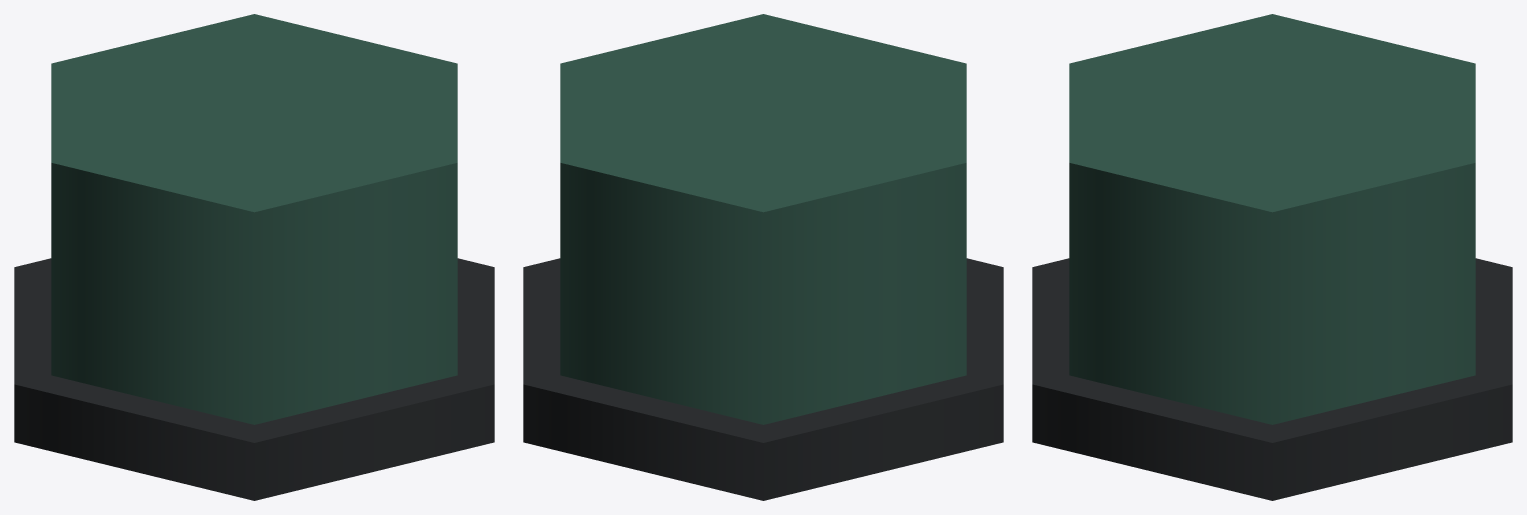
File: boss_hydra.obj
3 renders of one model, left to right at view 1: azimuth 30°, elevation 25°; view 2: azimuth 150°, elevation 25°; view 3: azimuth 270°, elevation 25°, orthographic.
Visible parts, largest first — view 1: body, neck; view 2: body, neck; view 3: body, neck.
Boxes of the visible parts, x1,y1,x2,y2 form: body: [51, 14, 457, 424]; neck: [14, 258, 494, 500]; body: [560, 14, 966, 424]; neck: [523, 258, 1003, 500]; body: [1069, 14, 1475, 424]; neck: [1032, 258, 1512, 500].
Size of the model in its own units: 2.6 by 1.4 by 2.25.
